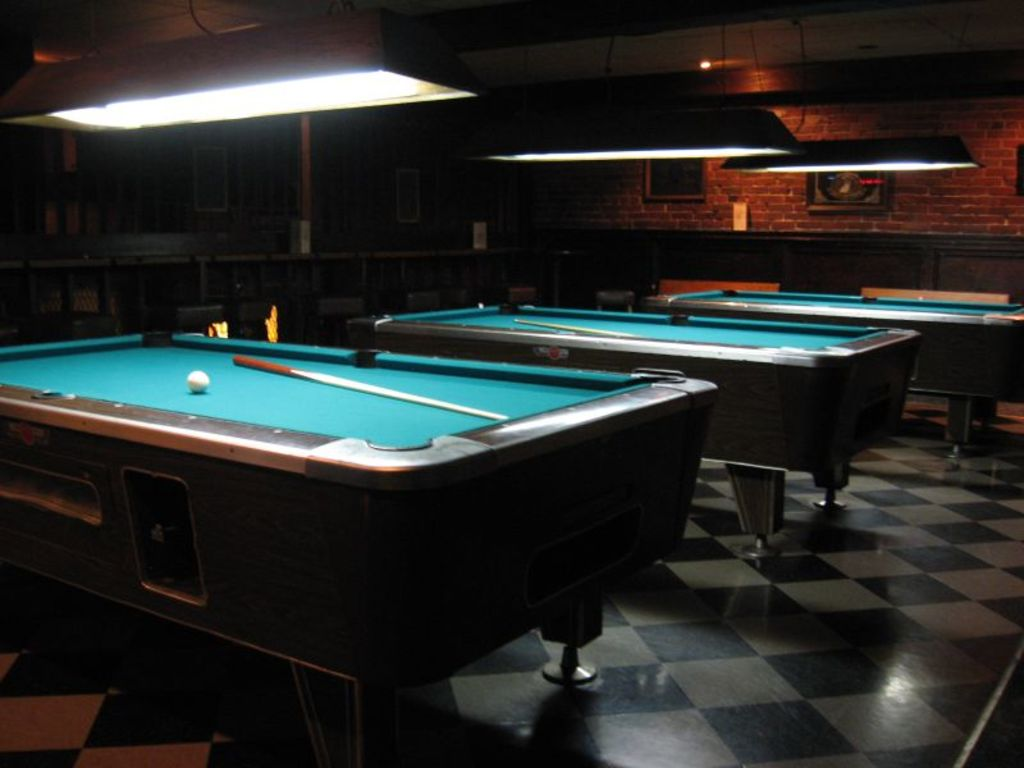Ball: (188, 370, 206, 393)
